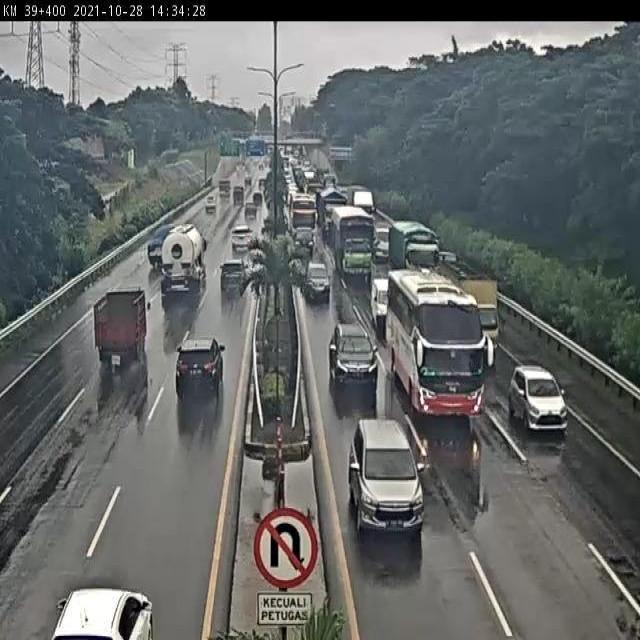big bus: (386, 268, 489, 421)
big truck: (453, 272, 501, 351), (160, 221, 206, 295), (333, 206, 375, 282), (388, 220, 441, 276), (146, 222, 174, 270)
car: (346, 414, 425, 542), (510, 362, 571, 434), (328, 324, 380, 391), (177, 334, 226, 394), (213, 253, 247, 296), (301, 258, 332, 302), (371, 276, 388, 327), (294, 225, 317, 255), (230, 212, 251, 239), (187, 207, 204, 232)
small truck: (93, 285, 150, 368)
